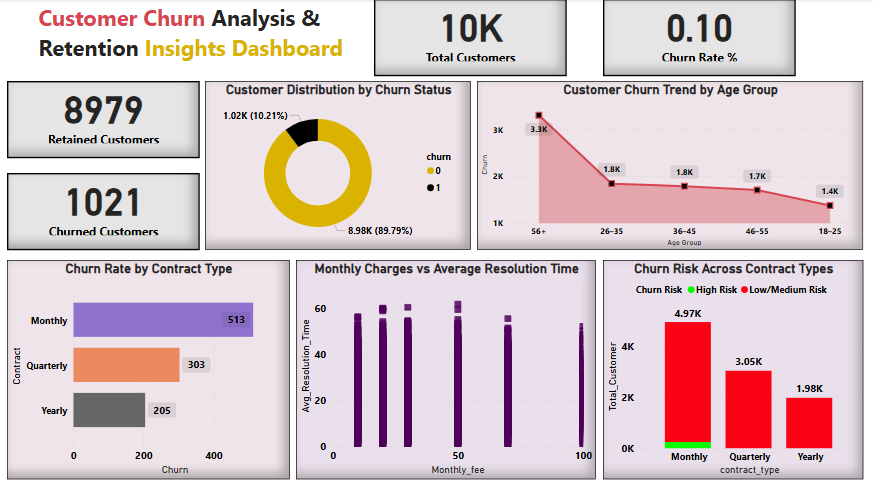

The dashboard page shown, as its layout file describes it:
{"tool":"powerbi","page":{"name":"Page 1","canvas":[1280,720],"ordinal":0},"visuals":[{"type":"textbox","box":[52.7,0,481.5,105.4],"z":0},{"type":"card","fields":{"Values":["customer_churn_business_dataset.Total Customers"]},"box":[548.8,0,282.4,112.7],"z":1000},{"type":"card","fields":{"Values":["customer_churn_business_dataset.Retained Customers"]},"box":[11.7,120,282.4,112.7],"z":2000},{"type":"card","fields":{"Values":["customer_churn_business_dataset.Churn Rate %"]},"box":[883.9,0,282.4,112.7],"z":3000},{"type":"card","fields":{"Values":["customer_churn_business_dataset.Churned Customers"]},"box":[11.7,254.6,282.4,112.7],"z":4000},{"type":"donutChart","title":"Customer Distribution by Churn Status","fields":{"Category":["customer_churn_business_dataset.churn"],"Y":["CountNonNull(customer_churn_business_dataset.customer_id)"]},"box":[301.5,120,389.3,247.3],"z":5000},{"type":"clusteredBarChart","title":"Churn Rate by Contract Type","fields":{"Y":["Sum(customer_churn_business_dataset.churn)"],"Category":["customer_churn_business_dataset.contract_type"]},"box":[12,382.2,413.7,320.7],"z":6000},{"type":"lineChart","title":"Customer Churn Trend by Age Group","fields":{"Y":["CountNonNull(customer_churn_business_dataset.churn)"],"Category":["customer_churn_business_dataset.Age Group"]},"box":[700,119.9,565.1,247.3],"z":7000},{"type":"scatterChart","title":"Monthly Charges vs Average Resolution Time","fields":{"X":["Sum(customer_churn_business_dataset.monthly_fee)"],"Category":["customer_churn_business_dataset.customer_id"],"Y":["Sum(customer_churn_business_dataset.avg_resolution_time)"]},"box":[434.7,382.2,439.2,320.7],"z":7001},{"type":"columnChart","title":"Churn Risk Across Contract Types","fields":{"Category":["customer_churn_business_dataset.contract_type"],"Y":["CountNonNull(customer_churn_business_dataset.customer_id)"],"Series":["customer_churn_business_dataset.Churn Risk"]},"box":[884.3,382.2,380.7,320.7],"z":7002}]}

Visuals, with their boxes in screenshot pixels (x1, y1, x2, y2), scaled from the page's 1280x720 canvas onto the 873x489 screenshot:
textbox: <bbox>36, 0, 364, 72</bbox>
card - customer_churn_business_dataset.Total Customers: <bbox>374, 0, 567, 77</bbox>
card - customer_churn_business_dataset.Retained Customers: <bbox>8, 82, 201, 158</bbox>
card - customer_churn_business_dataset.Churn Rate %: <bbox>603, 0, 795, 77</bbox>
card - customer_churn_business_dataset.Churned Customers: <bbox>8, 173, 201, 249</bbox>
"Customer Distribution by Churn Status" donutChart: <bbox>206, 82, 471, 249</bbox>
"Churn Rate by Contract Type" clusteredBarChart: <bbox>8, 260, 290, 477</bbox>
"Customer Churn Trend by Age Group" lineChart: <bbox>477, 81, 863, 249</bbox>
"Monthly Charges vs Average Resolution Time" scatterChart: <bbox>296, 260, 596, 477</bbox>
"Churn Risk Across Contract Types" columnChart: <bbox>603, 260, 863, 477</bbox>
